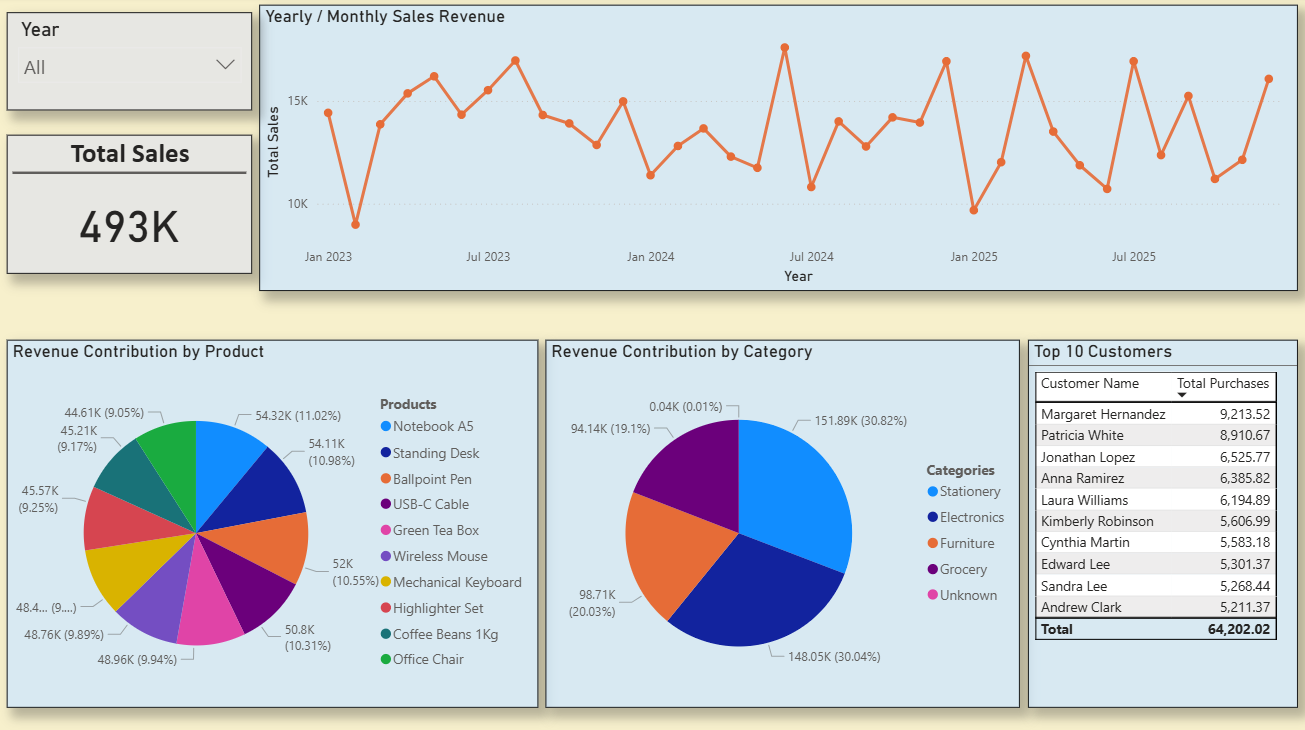

Layout of this report page (visuals, bound fields, positions):
{"tool":"powerbi","page":{"name":"Page 1","canvas":[1280,720],"ordinal":0},"visuals":[{"type":"card","title":"Total Sales","fields":{"Values":["retailsales_db sales.total_sale"]},"box":[8,136,240,136],"z":0},{"type":"lineChart","title":"Yearly / Monthly Sales Revenue","fields":{"Y":["retailsales_db sales.total_sale"],"Category":["retailsales_db sales.sale_date.Variation.Date Hierarchy.Year","retailsales_db sales.sale_date.Variation.Date Hierarchy.Month"]},"box":[256,8,1016,280],"z":1},{"type":"pieChart","title":"Revenue Contribution by Product","fields":{"Category":["retailsales_db products.product_name"],"Y":["retailsales_db sales.total_sale"]},"box":[8,336,520,360],"z":2},{"type":"pieChart","title":"Revenue Contribution by Category","fields":{"Category":["retailsales_db category.category_name"],"Y":["retailsales_db sales.total_sale"]},"box":[536,336,464,360],"z":3},{"type":"slicer","fields":{"Values":["retailsales_db sales.Year"]},"box":[8,16,240,96],"z":5},{"type":"tableEx","title":"Top 10 Customers","fields":{"Values":["retailsales_db customers.full_name","retailsales_db sales.total_sale"]},"box":[1008,336,264,360],"z":6}]}

Visuals, with their boxes in screenshot pixels (x1, y1, x2, y2), scaled from the page's 1280x720 canvas onto the 1305x730 screenshot:
"Total Sales" card: l=8, t=138, r=253, b=276
"Yearly / Monthly Sales Revenue" lineChart: l=261, t=8, r=1297, b=292
"Revenue Contribution by Product" pieChart: l=8, t=341, r=538, b=706
"Revenue Contribution by Category" pieChart: l=546, t=341, r=1020, b=706
slicer - retailsales_db sales.Year: l=8, t=16, r=253, b=114
"Top 10 Customers" tableEx: l=1028, t=341, r=1297, b=706
